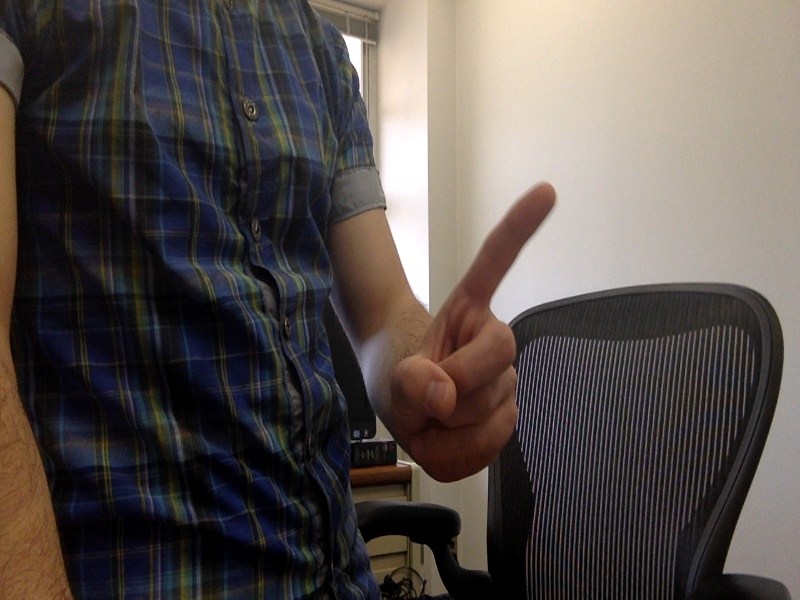1-hand: (372, 180, 563, 476)
